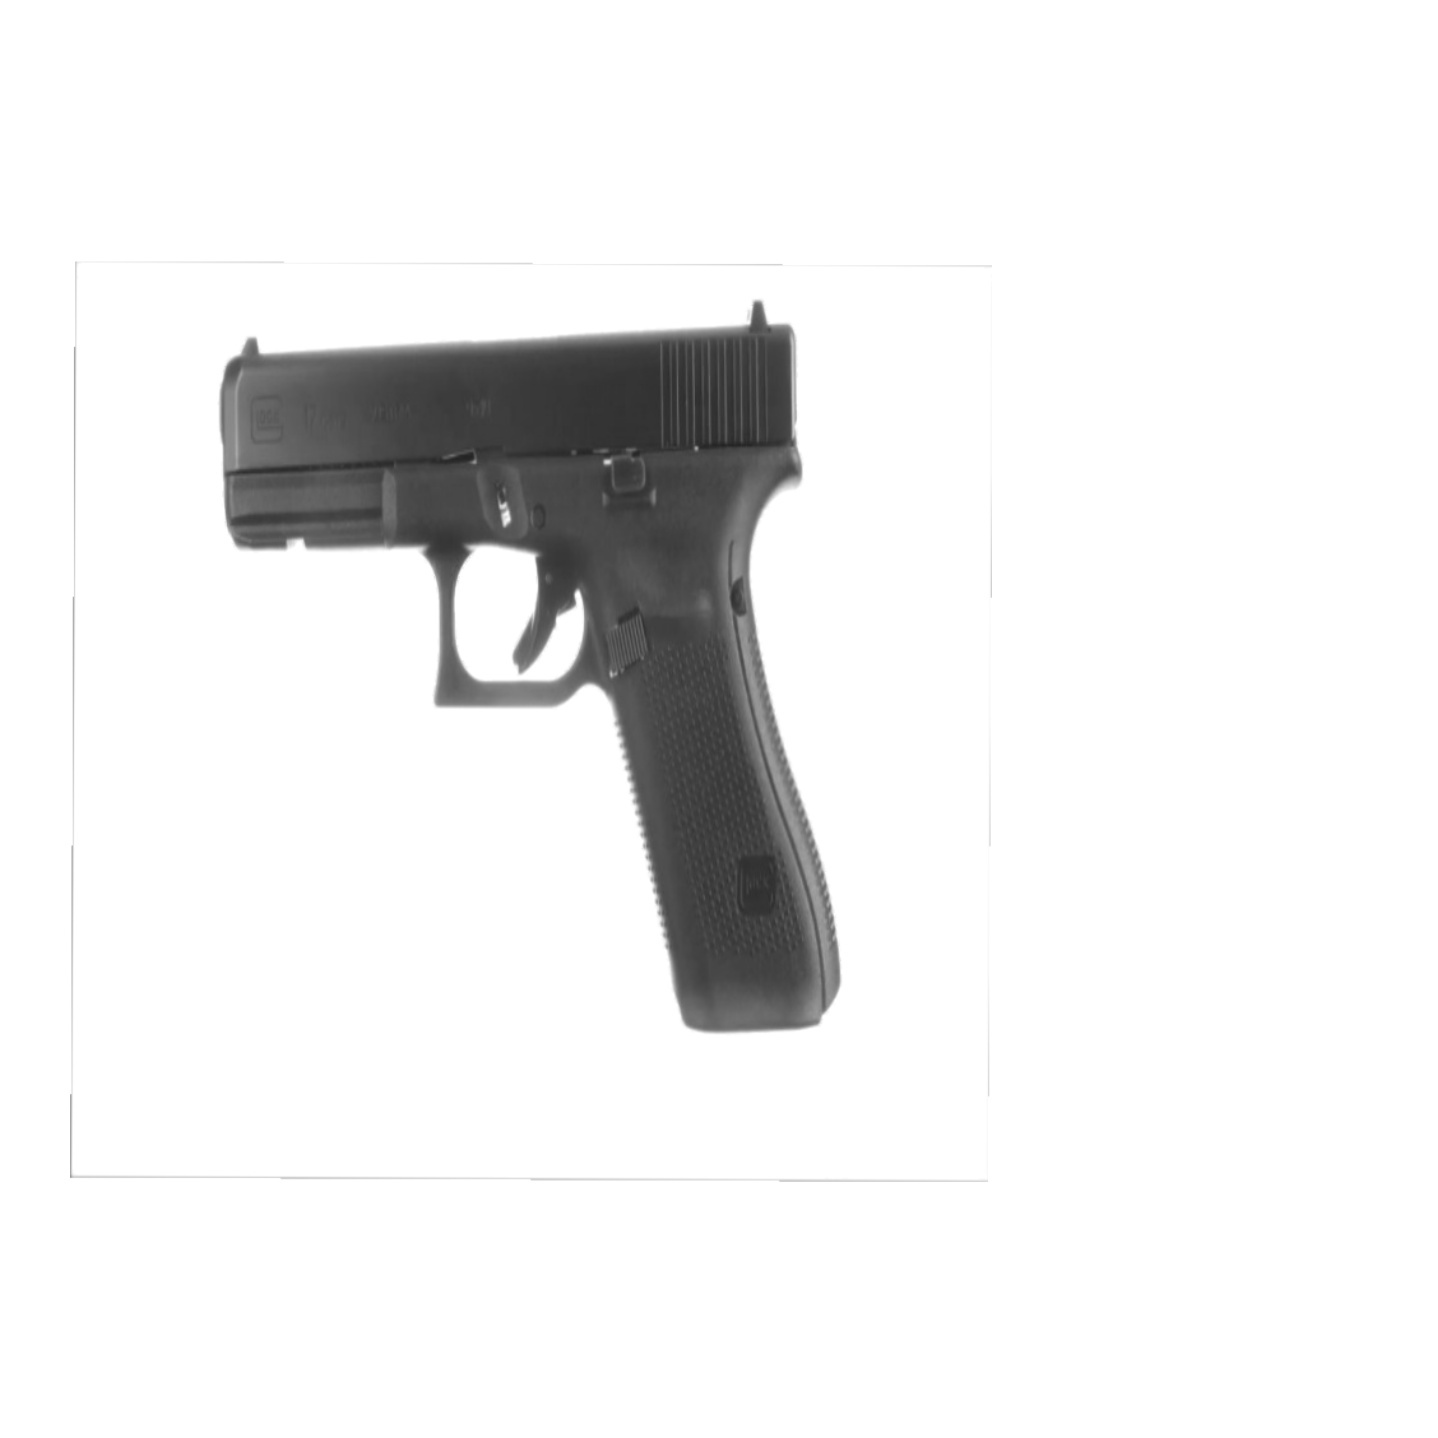gun: (215, 294, 847, 1036)
